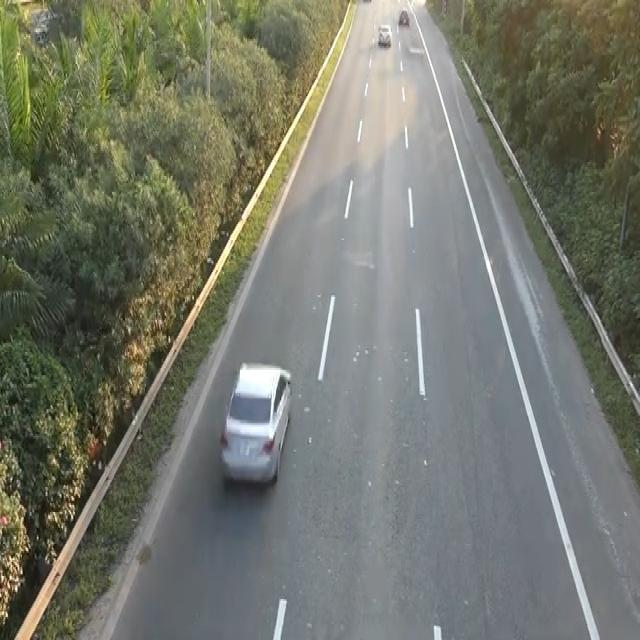bus: (217, 355, 294, 489), (397, 7, 410, 27)
